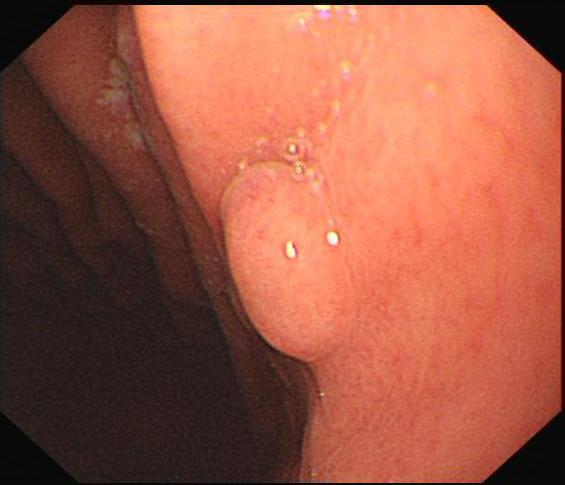Polyp: (212, 152, 365, 364)
